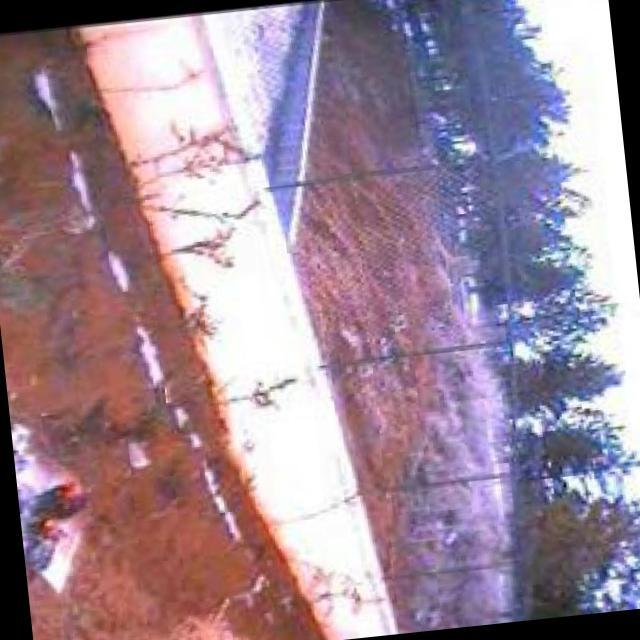Fire: (26, 472, 103, 551)
